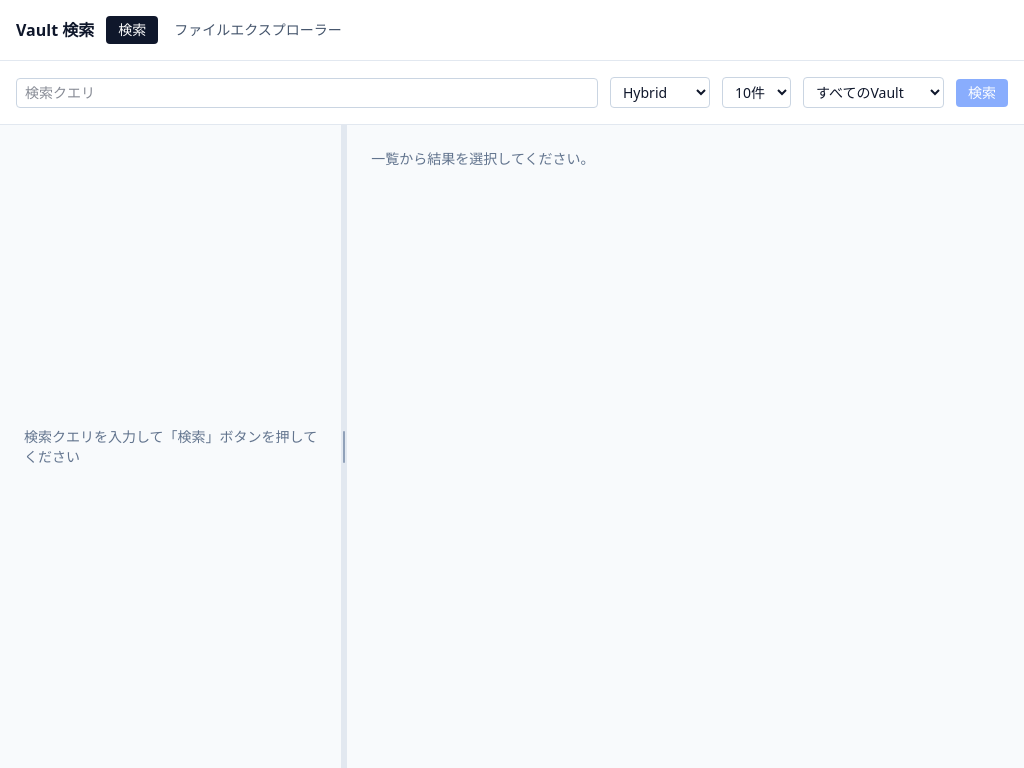
Test: shows 'no results' toast when search completes with empty results
Type "test query" into the search field with placeholder "検索クエリ" at coordinates (307, 92), box [16,78,598,108]
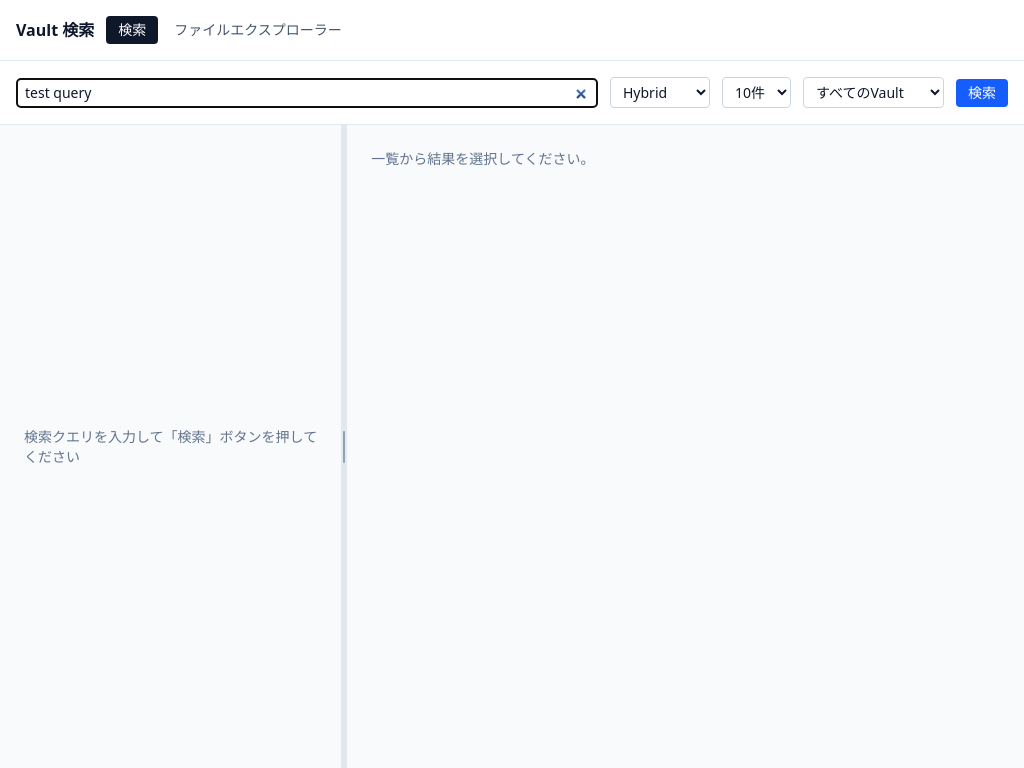
Click the button "検索" at coordinates (982, 92), box [956,78,1008,106]
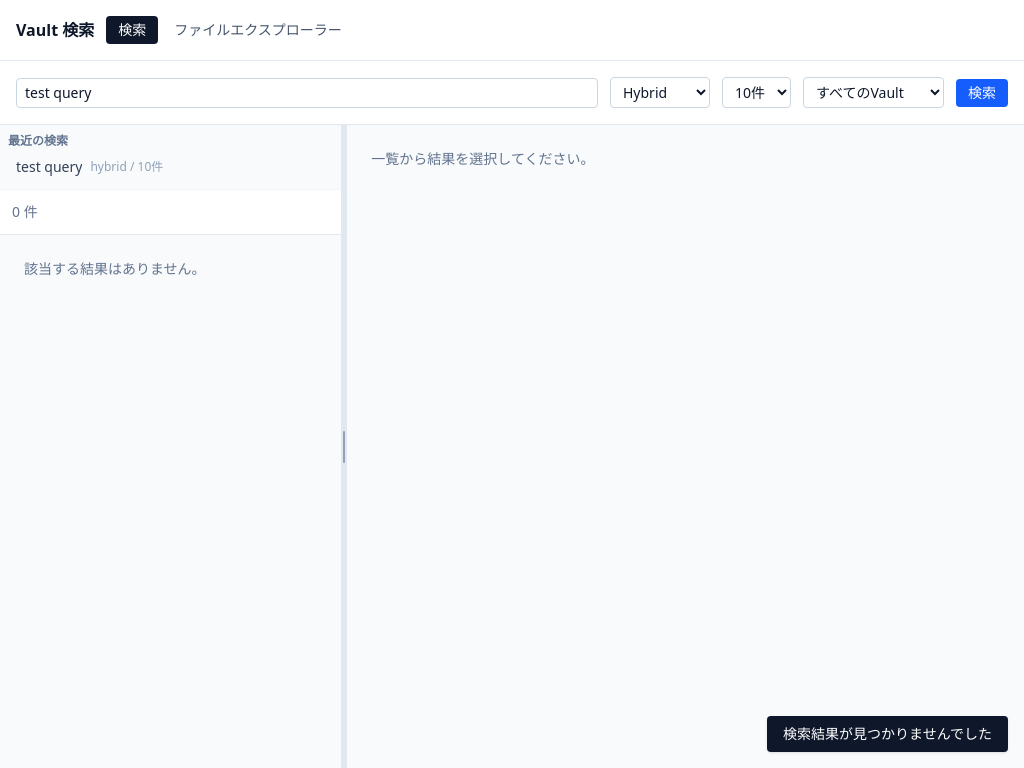
Check: the text "検索結果が見つかりませんでした" is shown, box [767,716,1008,752]
